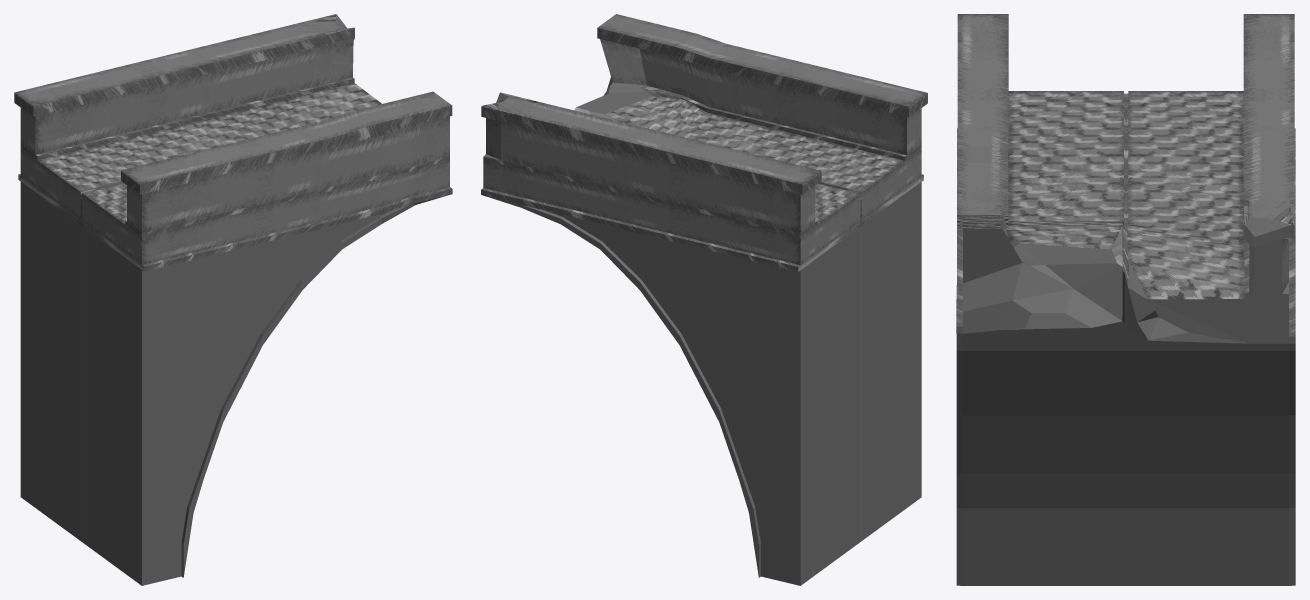
The model's file is pontcassé-path_of-matches.fbx.
3 views of the same model, side by side, from view 1: azimuth 30°, elevation 25°; view 2: azimuth 150°, elevation 25°; view 3: azimuth 270°, elevation 25° (orthographic). The views are drawn at different scales.
Parts seen in each view (by area): view 1: Cube.019; view 2: Cube.019; view 3: Cube.019.
Part boxes in pixels (x1,y1,x2,y2): Cube.019: (14,14,452,585); Cube.019: (481,14,927,585); Cube.019: (956,14,1295,585).
Bounding box in the file's own units: 2036 × 2451 × 1378.
2 materials, 1 textured.
